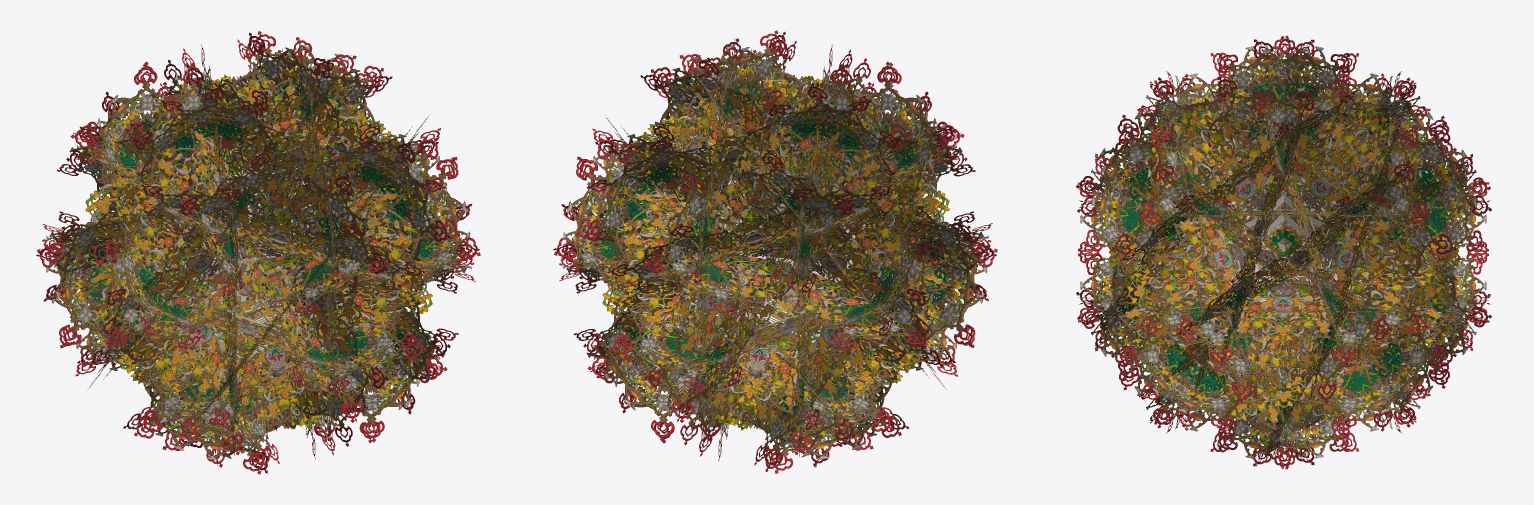
Rendered from GreatTruncatedIcosidodecahedron7.gltf.
The picture shows the model from 3 angles, left to right: view 1: azimuth 30°, elevation 25°; view 2: azimuth 150°, elevation 25°; view 3: azimuth 270°, elevation 25°; orthographic projection. The views are drawn at different scales.
Parts seen in each view (by area): view 1: GreatTruncatedIcosidodecahedron; view 2: GreatTruncatedIcosidodecahedron; view 3: GreatTruncatedIcosidodecahedron.
Part boxes in pixels (left/top/right/bottom): GreatTruncatedIcosidodecahedron: left=36, top=31, right=480, bottom=474; GreatTruncatedIcosidodecahedron: left=553, top=30, right=997, bottom=473; GreatTruncatedIcosidodecahedron: left=1076, top=35, right=1491, bottom=469.
Size of the model in its own units: 2 by 2 by 2.
1 material, 1 textured.
